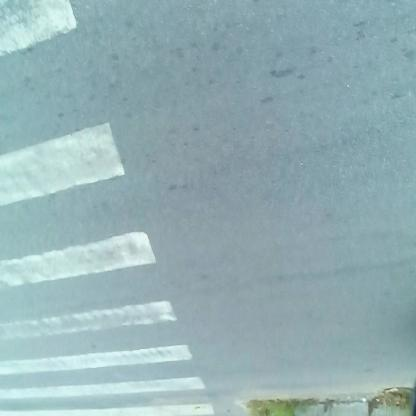crosswalk: (1, 2, 222, 407)
